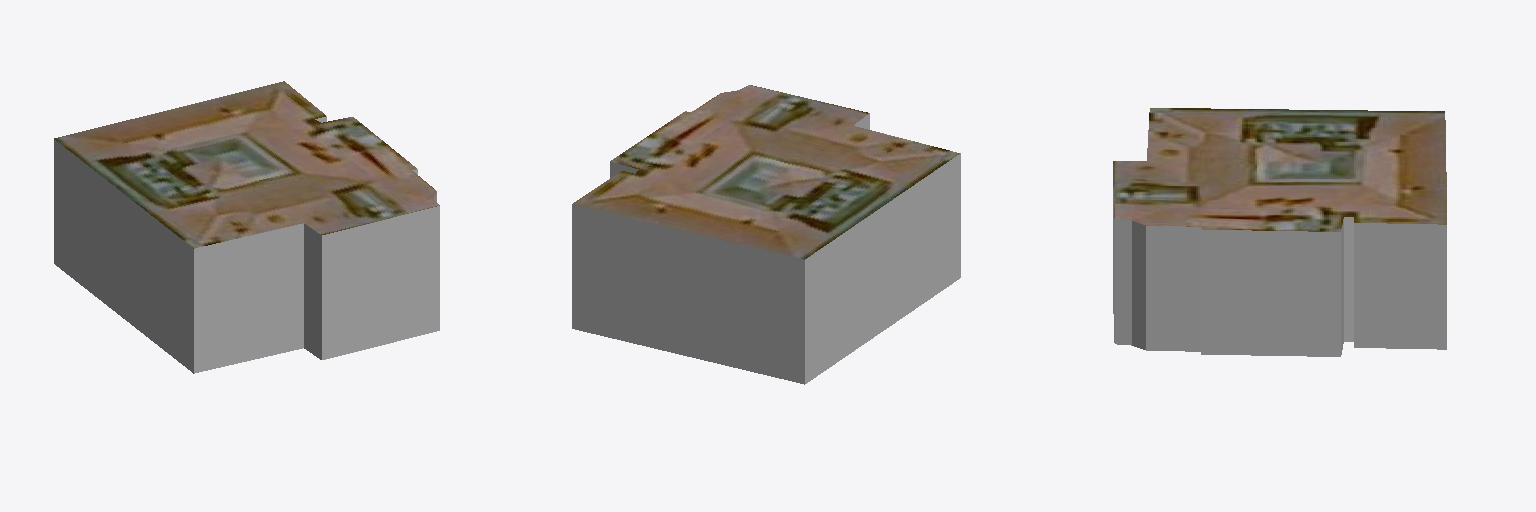
3 renders of one model, left to right at view 1: azimuth 30°, elevation 25°; view 2: azimuth 150°, elevation 25°; view 3: azimuth 270°, elevation 25°, orthographic.
Parts seen in each view (by area): view 1: map_20.osm_buildings; view 2: map_20.osm_buildings; view 3: map_20.osm_buildings.
Part boxes in pixels (left/top/right/bottom): map_20.osm_buildings: left=54, top=81, right=439, bottom=373; map_20.osm_buildings: left=572, top=85, right=960, bottom=384; map_20.osm_buildings: left=1113, top=108, right=1446, bottom=356.
Size of the model in its own units: 33.46 by 21.6 by 38.08.
Materials: 3 (1 with a texture image).